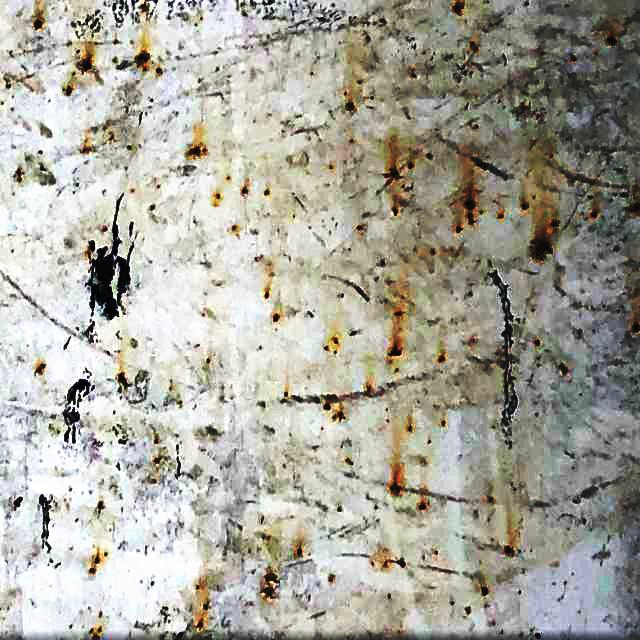Corrosion: (210, 176, 271, 206), (260, 287, 280, 323), (322, 395, 346, 422), (87, 550, 107, 577), (532, 238, 553, 261), (261, 574, 278, 600), (194, 602, 208, 633), (464, 192, 476, 224), (323, 336, 340, 354), (186, 144, 206, 157), (384, 166, 402, 180), (135, 52, 149, 68), (388, 344, 402, 357), (389, 482, 402, 496), (32, 362, 45, 376), (79, 56, 91, 70), (627, 202, 640, 214), (88, 628, 101, 640), (454, 0, 465, 14), (117, 374, 127, 389), (607, 32, 618, 45), (32, 16, 42, 30), (558, 364, 569, 376), (13, 168, 21, 182), (505, 546, 514, 557), (632, 322, 640, 334), (437, 354, 447, 363), (405, 160, 414, 169), (295, 548, 303, 558), (397, 560, 406, 568), (418, 504, 427, 512), (346, 102, 354, 111), (591, 210, 599, 219), (521, 202, 530, 210), (455, 224, 463, 233), (482, 588, 489, 597), (551, 220, 560, 227), (393, 208, 398, 215), (408, 426, 413, 433)
